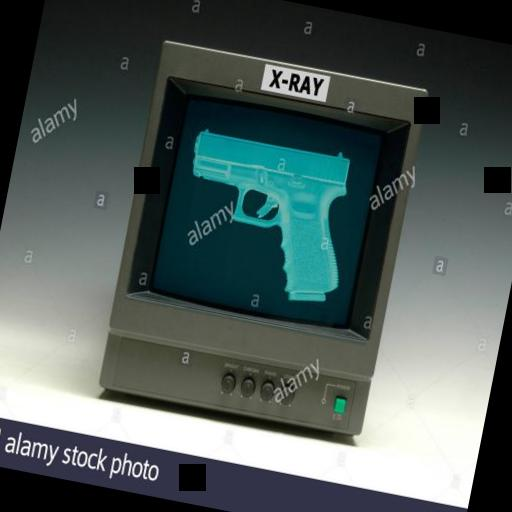Handgun: (166, 123, 366, 309)
